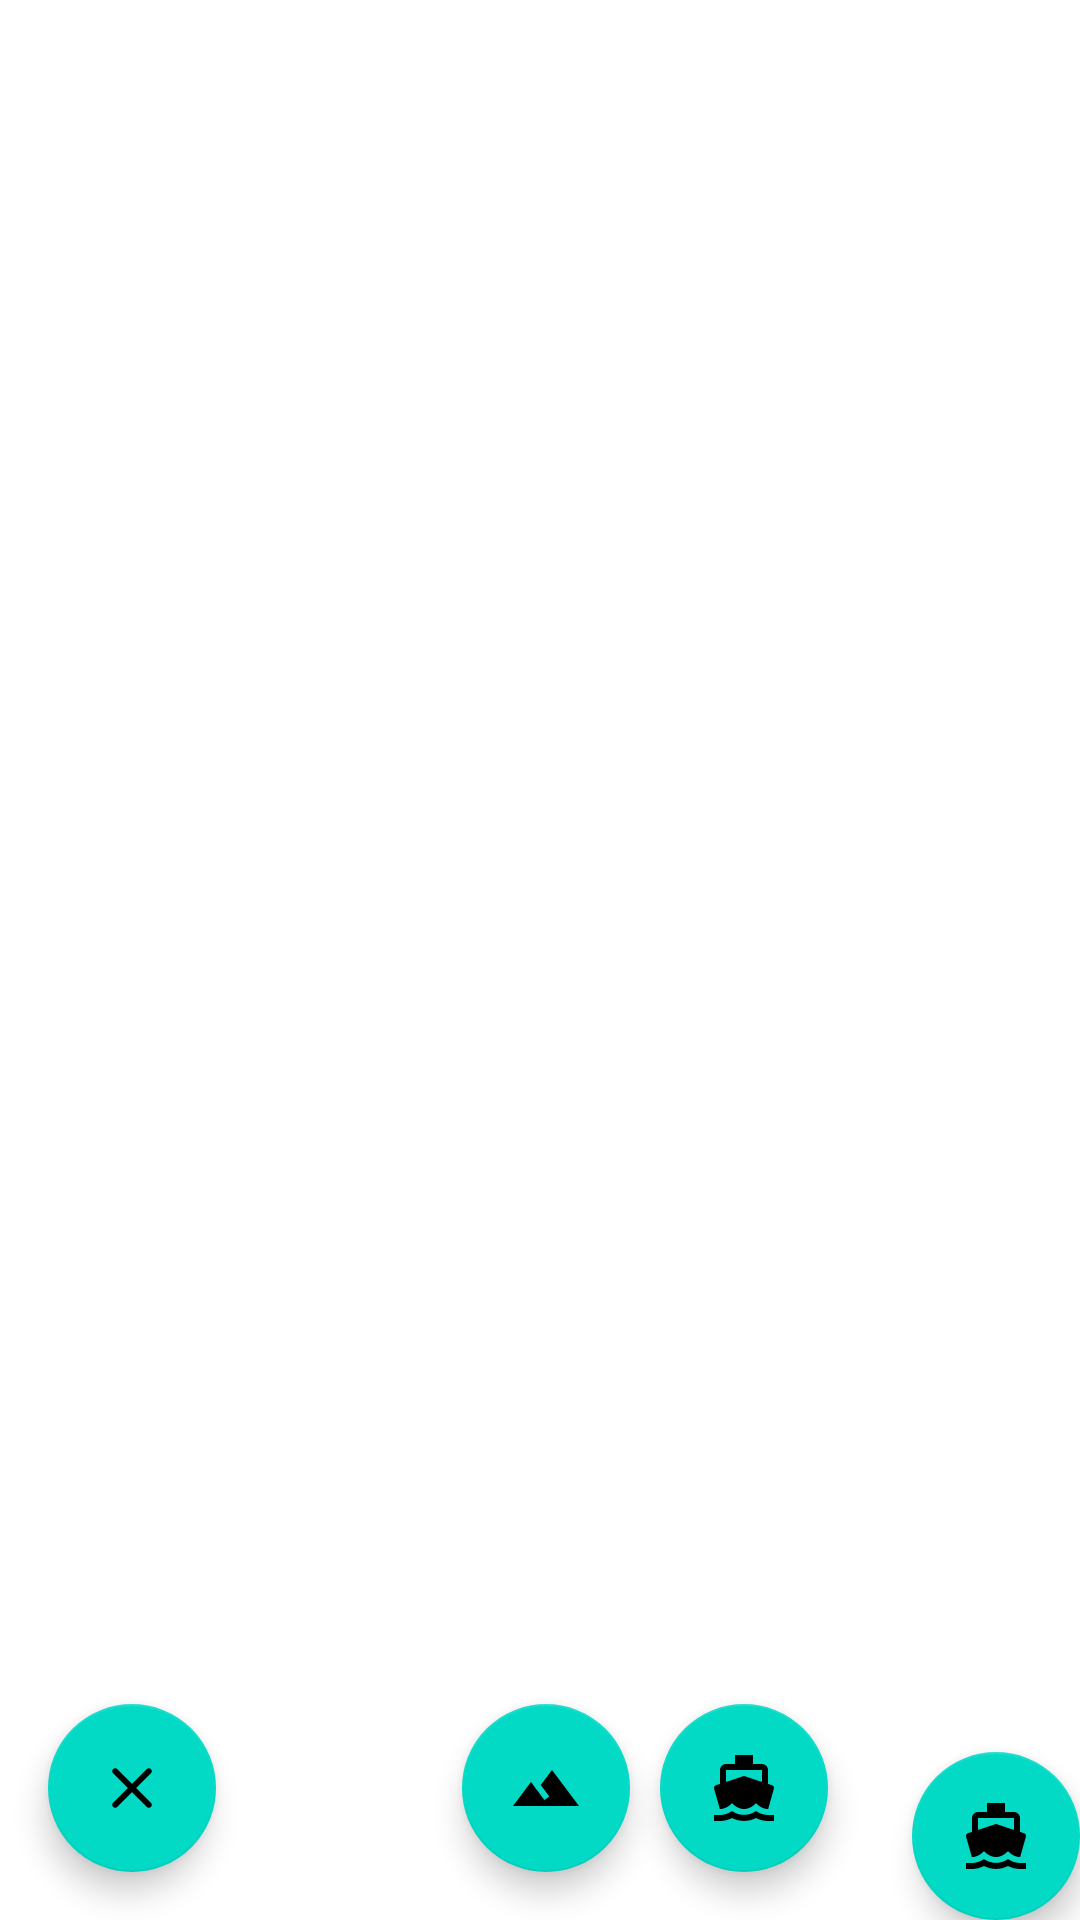

Icon bounding boxes for this 1080px×1920px phone screenshot, format detection(x1, y1, x2, y2):
boat: detection(660, 1704, 828, 1872), detection(912, 1752, 1080, 1920)
clear: detection(48, 1704, 216, 1872)
terrain: detection(462, 1704, 630, 1872)
